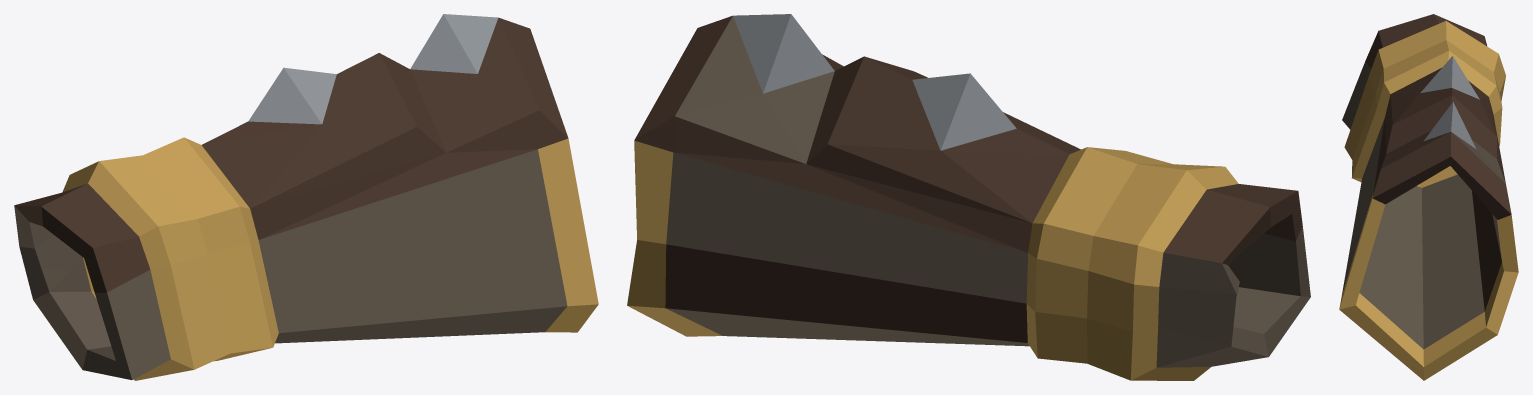
File: Chr_ArmLowerRight_Female_01_Drop.fbx
3 renders of one model, left to right at view 1: azimuth 30°, elevation 25°; view 2: azimuth 150°, elevation 25°; view 3: azimuth 270°, elevation 25°, orthographic. The views are drawn at different scales.
Visible parts, largest first — view 1: Chr_ArmLowerRight_Female_01_Static; view 2: Chr_ArmLowerRight_Female_01_Static; view 3: Chr_ArmLowerRight_Female_01_Static.
Part boxes in pixels (left/top/right/bottom): Chr_ArmLowerRight_Female_01_Static: left=14, top=14, right=598, bottom=380; Chr_ArmLowerRight_Female_01_Static: left=627, top=14, right=1310, bottom=380; Chr_ArmLowerRight_Female_01_Static: left=1339, top=14, right=1518, bottom=380.
Size of the model in its own units: 23.43 by 13.89 by 9.45.
